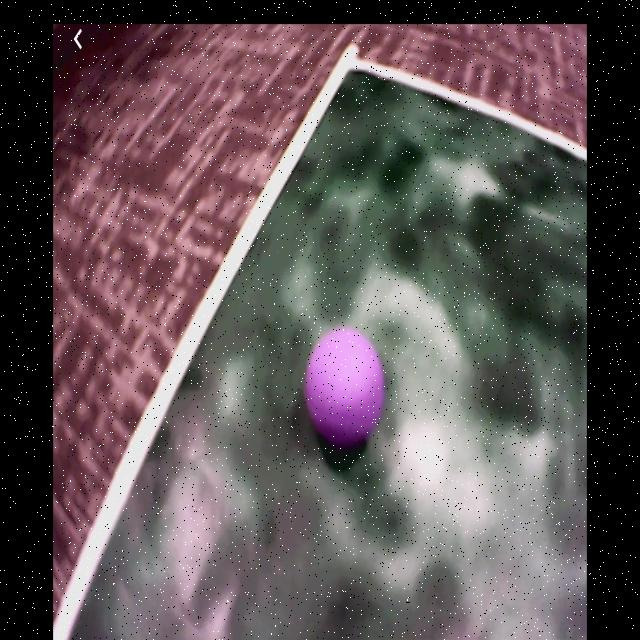ball: (308, 332, 383, 447)
